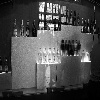beer: (30, 21, 36, 37)
